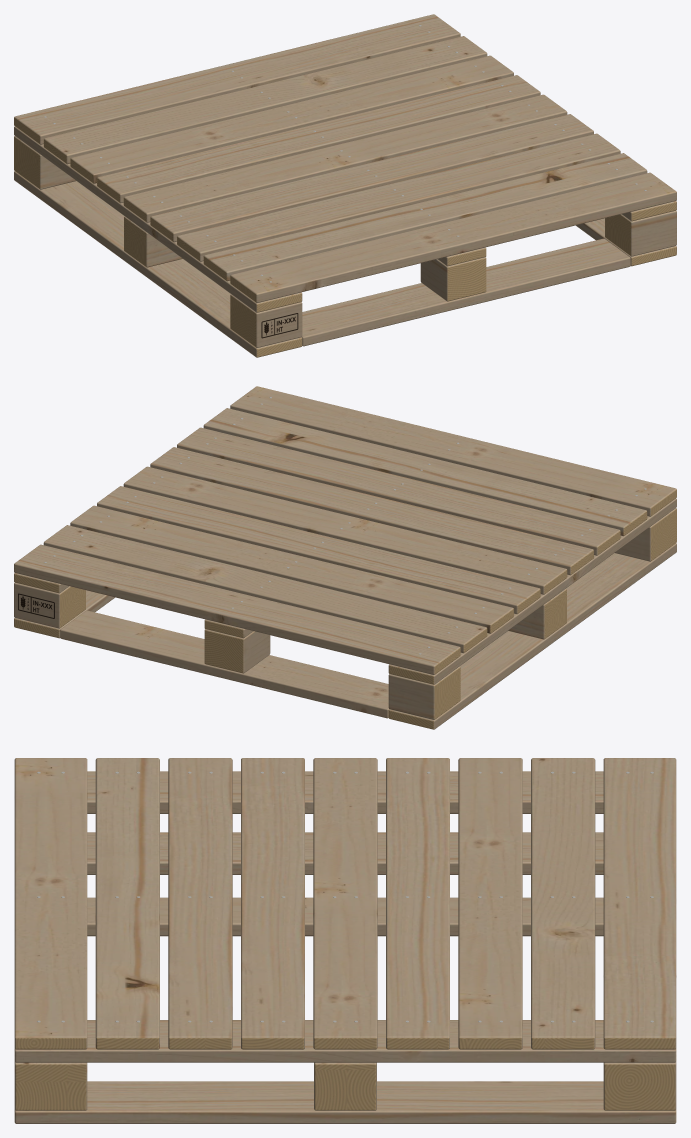
File: pw07-pinewood-pallet-1000x1000.glb
3 renders of one model, top to bottom at view 1: azimuth 30°, elevation 25°; view 2: azimuth 150°, elevation 25°; view 3: azimuth 270°, elevation 25°, orthographic. The views are drawn at different scales.
Parts seen in each view (by area): view 1: pw07-pinewood-pallet-1000x1000; view 2: pw07-pinewood-pallet-1000x1000; view 3: pw07-pinewood-pallet-1000x1000.
Part boxes in pixels (x1,y1,x2,y2): pw07-pinewood-pallet-1000x1000: (14,14,676,357); pw07-pinewood-pallet-1000x1000: (14,386,676,729); pw07-pinewood-pallet-1000x1000: (14,758,676,1123).
Size of the model in its own units: 1 by 0.1469 by 1.
4 materials, 3 textured.
